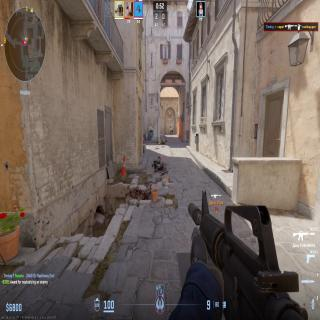T-Body: (170, 126, 173, 135)
T-Head: (170, 126, 172, 129)
